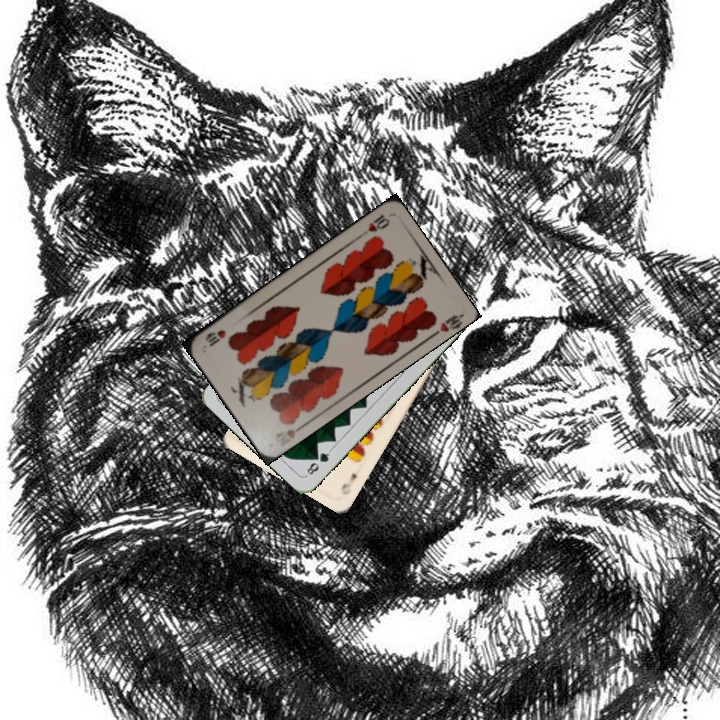E9: (337, 469, 360, 498)
G8: (302, 446, 334, 479)
H10: (356, 210, 392, 240), (282, 420, 307, 441)
